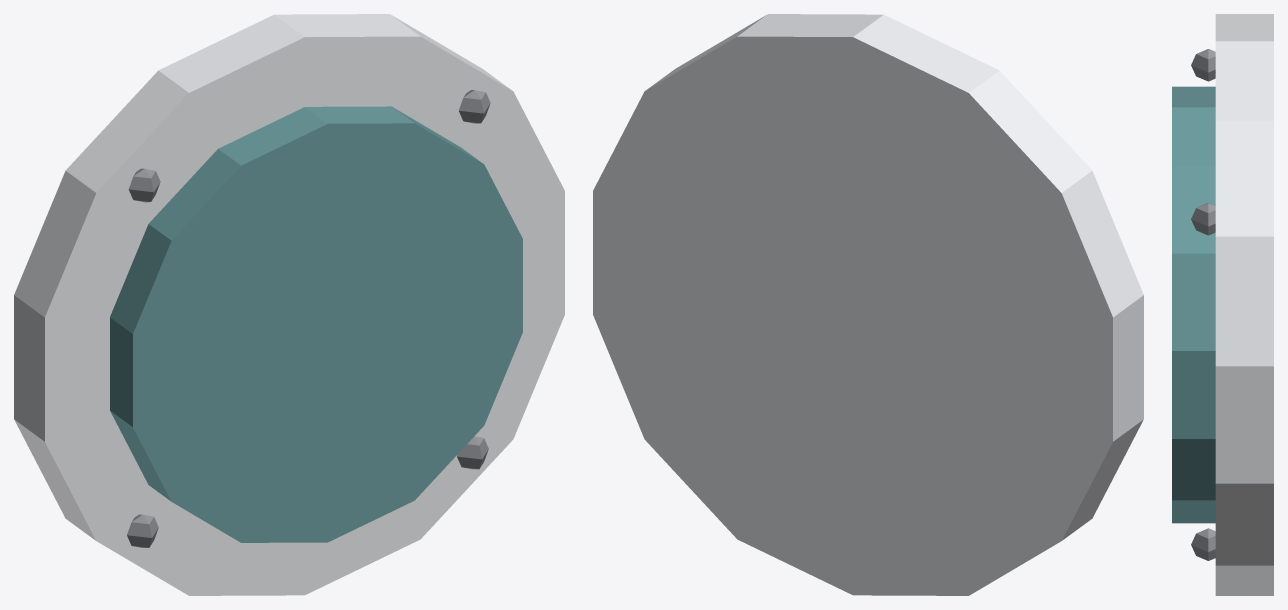
The model's file is HJ_LuzPiscina.fbx.
The picture shows the model from 3 angles, left to right: view 1: azimuth 30°, elevation 25°; view 2: azimuth 150°, elevation 25°; view 3: azimuth 270°, elevation 25°; orthographic projection. The views are drawn at different scales.
Parts seen in each view (by area): view 1: HJ_LuzPiscina; view 2: HJ_LuzPiscina; view 3: HJ_LuzPiscina.
Boxes of the visible parts, bbox=[...] form: HJ_LuzPiscina: bbox=[14, 14, 564, 595]; HJ_LuzPiscina: bbox=[593, 14, 1143, 595]; HJ_LuzPiscina: bbox=[1172, 14, 1273, 595].
Bounding box in the file's own units: 0.39 × 0.4 × 0.07.
